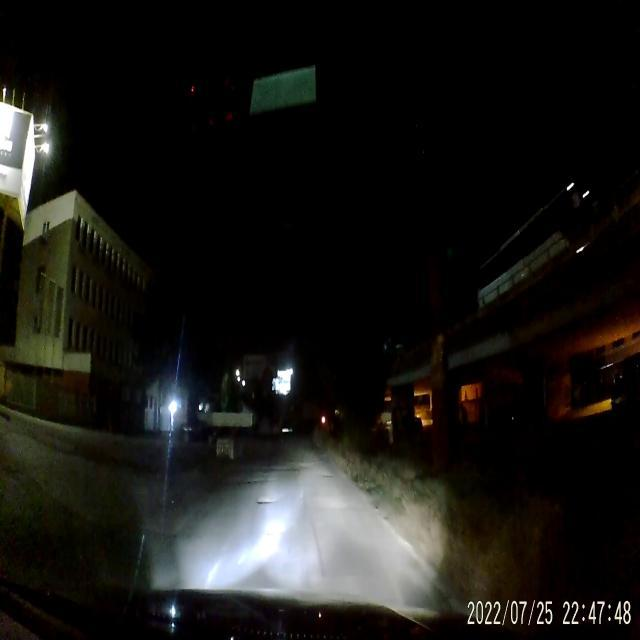Pothole: (252, 494, 274, 510), (321, 472, 334, 480), (246, 479, 260, 485)
